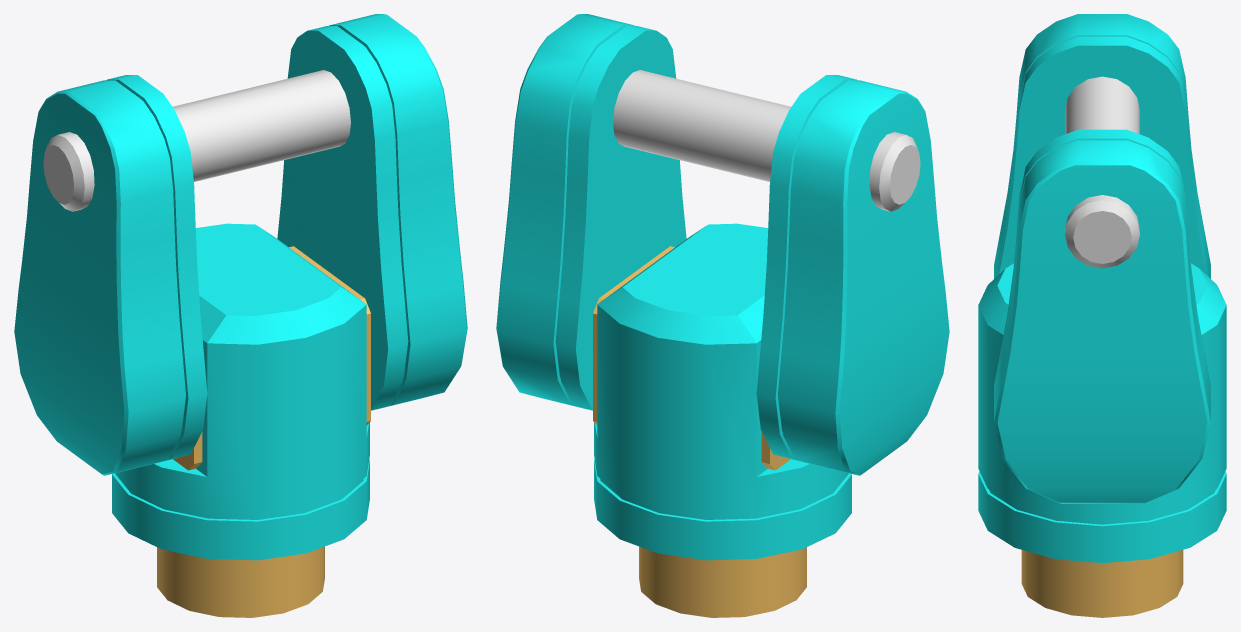
Rendered from arm1.gltf.
3 renders of one model, left to right at view 1: azimuth 30°, elevation 25°; view 2: azimuth 150°, elevation 25°; view 3: azimuth 270°, elevation 25°, orthographic. The views are drawn at different scales.
Parts seen in each view (by area): view 1: Cylinder.014; view 2: Cylinder.014; view 3: Cylinder.014.
Boxes of the visible parts, x1=… form: Cylinder.014: x1=14, y1=14, x2=467, y2=617; Cylinder.014: x1=496, y1=14, x2=949, y2=617; Cylinder.014: x1=978, y1=14, x2=1226, y2=617.
Bounding box in the file's own units: 2.96 × 4.03 × 1.83.
